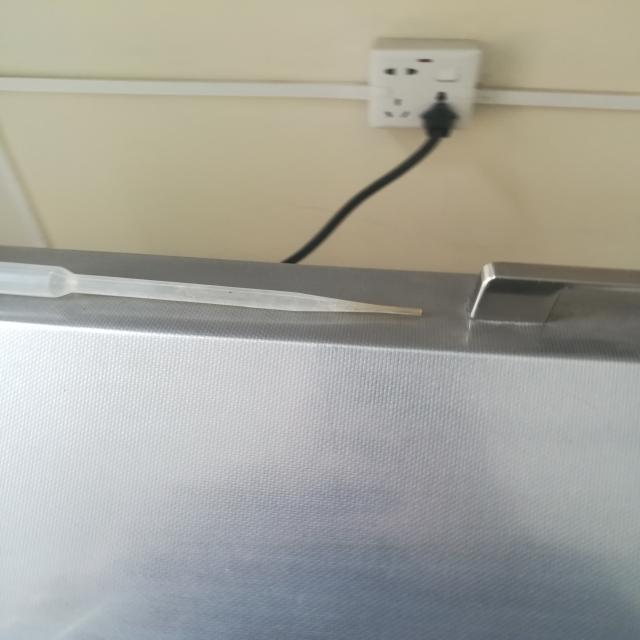Pipette: (0, 231, 452, 364)
